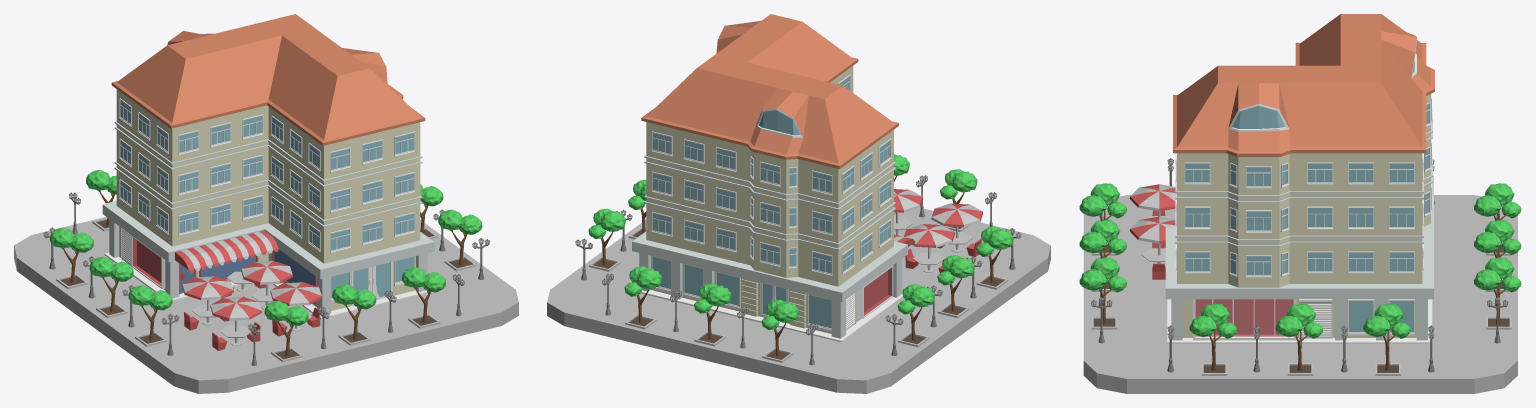
File: low_poly_bilding.fbx
3 views of the same model, side by side, from view 1: azimuth 30°, elevation 25°; view 2: azimuth 150°, elevation 25°; view 3: azimuth 270°, elevation 25° (orthographic). The views are drawn at different scales.
Visible parts, largest first — view 1: Building_facad, Platform, shed1, shed, showcase, Cube_24_2, Cube_19_2, Cube_18_2, Disc_2_2, Disc_6, Disc_8, Disc_7 (+6 smaller); view 2: Building_facad, Platform, showcase, Cube_22_2, Disc_6, Cube_12, Disc_5, Disc_8, Disc_7, Cube_7_2, Cube_8_26, Sphere_18 (+2 smaller); view 3: Building_facad, Platform, showcase1, blinds_2, Cube_10_2, Disc_5, Disc_6, Disc_4, Cube_2_3, glass_16, glass_59, glass_50 (+34 smaller).
Boxes of the visible parts, bbox=[...] form: Building_facad: bbox=[102, 14, 434, 319]; Platform: bbox=[14, 217, 518, 393]; shed1: bbox=[175, 230, 278, 272]; shed: bbox=[181, 231, 273, 271]; showcase: bbox=[131, 236, 165, 288]; Cube_24_2: bbox=[353, 262, 390, 297]; Cube_19_2: bbox=[274, 249, 314, 285]; Cube_18_2: bbox=[201, 254, 256, 278]; Disc_2_2: bbox=[241, 261, 292, 295]; Disc_6: bbox=[210, 297, 261, 331]; Disc_8: bbox=[182, 276, 233, 310]; Disc_7: bbox=[183, 276, 233, 299]; Building_facad: bbox=[632, 14, 907, 342]; Platform: bbox=[547, 207, 1050, 393]; showcase: bbox=[856, 265, 893, 318]; Cube_22_2: bbox=[809, 295, 831, 328]; Disc_6: bbox=[931, 203, 981, 238]; Cube_12: bbox=[831, 300, 845, 338]; Disc_5: bbox=[932, 203, 982, 227]; Disc_8: bbox=[905, 224, 953, 258]; Disc_7: bbox=[904, 224, 954, 247]; Cube_7_2: bbox=[684, 264, 702, 296]; Cube_8_26: bbox=[716, 272, 739, 305]; Sphere_18: bbox=[600, 211, 625, 231]; Building_facad: bbox=[1165, 14, 1434, 343]; Platform: bbox=[1083, 195, 1517, 393]; showcase1: bbox=[1193, 299, 1296, 340]; blinds_2: bbox=[1299, 299, 1332, 338]; Cube_10_2: bbox=[1349, 301, 1373, 331]; Disc_5: bbox=[1129, 184, 1175, 211]; Disc_6: bbox=[1131, 184, 1175, 216]; Disc_4: bbox=[1131, 216, 1175, 255]; Cube_2_3: bbox=[1416, 299, 1427, 340]; glass_16: bbox=[1185, 252, 1209, 271]; glass_59: bbox=[1246, 211, 1270, 230]; glass_50: bbox=[1308, 252, 1332, 271].
Size of the model in its own units: 4823 by 3074 by 4841.
